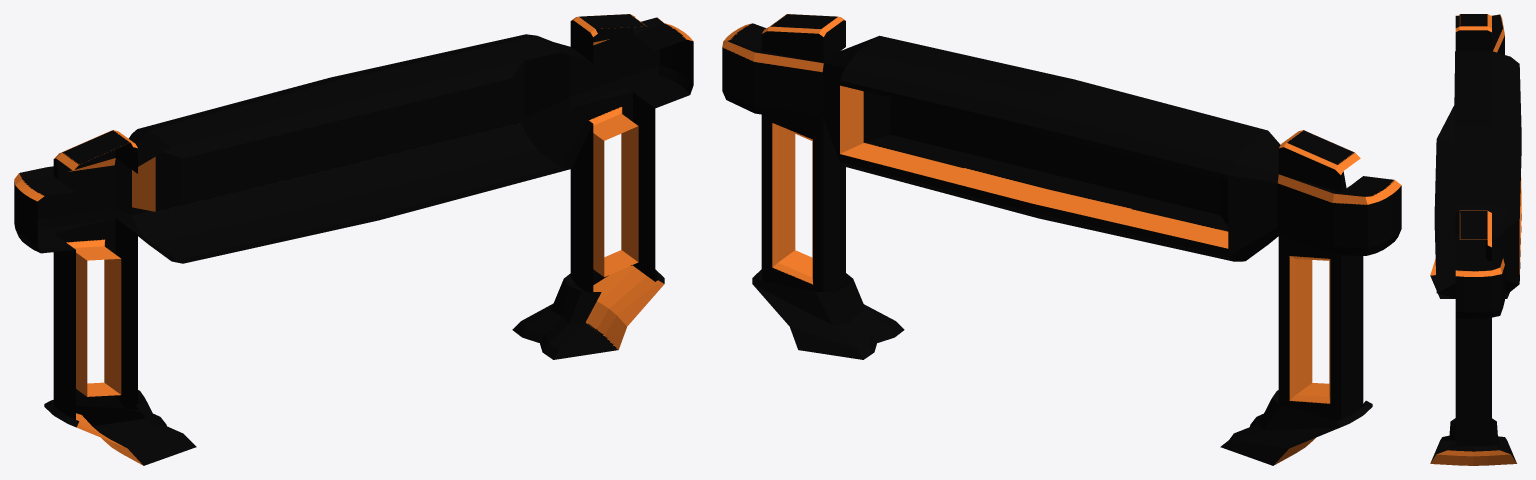
Rendered from recognizer_optimized.gltf.
3 views of the same model, side by side, from view 1: azimuth 30°, elevation 25°; view 2: azimuth 150°, elevation 25°; view 3: azimuth 270°, elevation 25° (orthographic). The views are drawn at different scales.
Visible parts, largest first — view 1: Cube; view 2: Cube; view 3: Cube.
Part boxes in pixels (x1=…): Cube: x1=14, y1=14, x2=693, y2=465; Cube: x1=722, y1=14, x2=1401, y2=465; Cube: x1=1430, y1=14, x2=1521, y2=465.
Size of the model in its own units: 22.24 by 9.93 by 3.29.
Materials: 1 (1 with a texture image).
